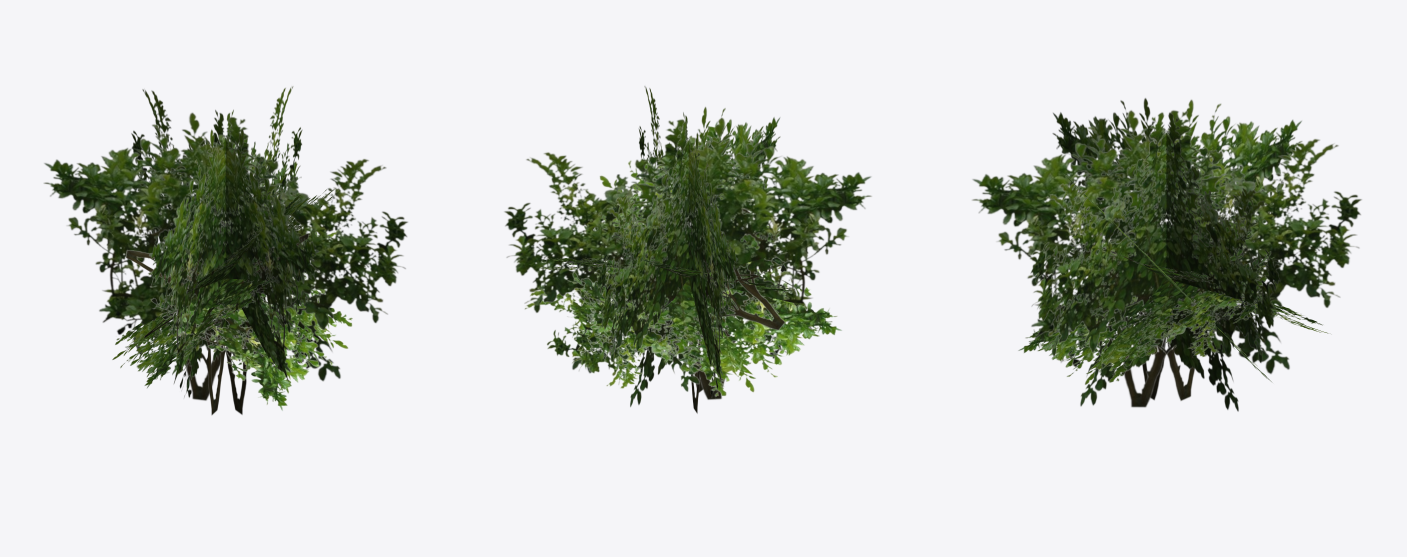
File: shrub 1.glb
The picture shows the model from 3 angles, left to right: view 1: azimuth 30°, elevation 25°; view 2: azimuth 150°, elevation 25°; view 3: azimuth 270°, elevation 25°; orthographic projection. The views are drawn at different scales.
Parts seen in each view (by area): view 1: 35-350944_bush-png-transparent-picture-bush-tree-removebg-pr (×6); view 2: 35-350944_bush-png-transparent-picture-bush-tree-removebg-pr (×6); view 3: 35-350944_bush-png-transparent-picture-bush-tree-removebg-pr (×6).
Boxes of the visible parts, x1,y1,x2,y2 form: 35-350944_bush-png-transparent-picture-bush-tree-removebg-pr (×6): [43, 86, 407, 415]; 35-350944_bush-png-transparent-picture-bush-tree-removebg-pr (×6): [504, 86, 871, 413]; 35-350944_bush-png-transparent-picture-bush-tree-removebg-pr (×6): [972, 98, 1361, 411].
Bounding box in the file's own units: 1.11 × 1 × 1.1.
Materials: 1 (1 with a texture image).
